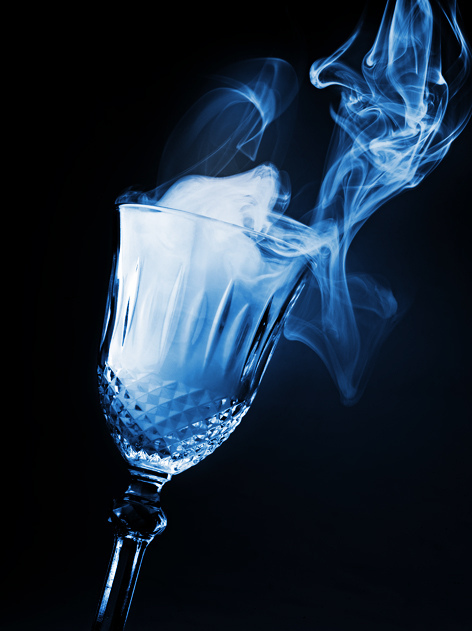glass of milk: (115, 227, 294, 576)
